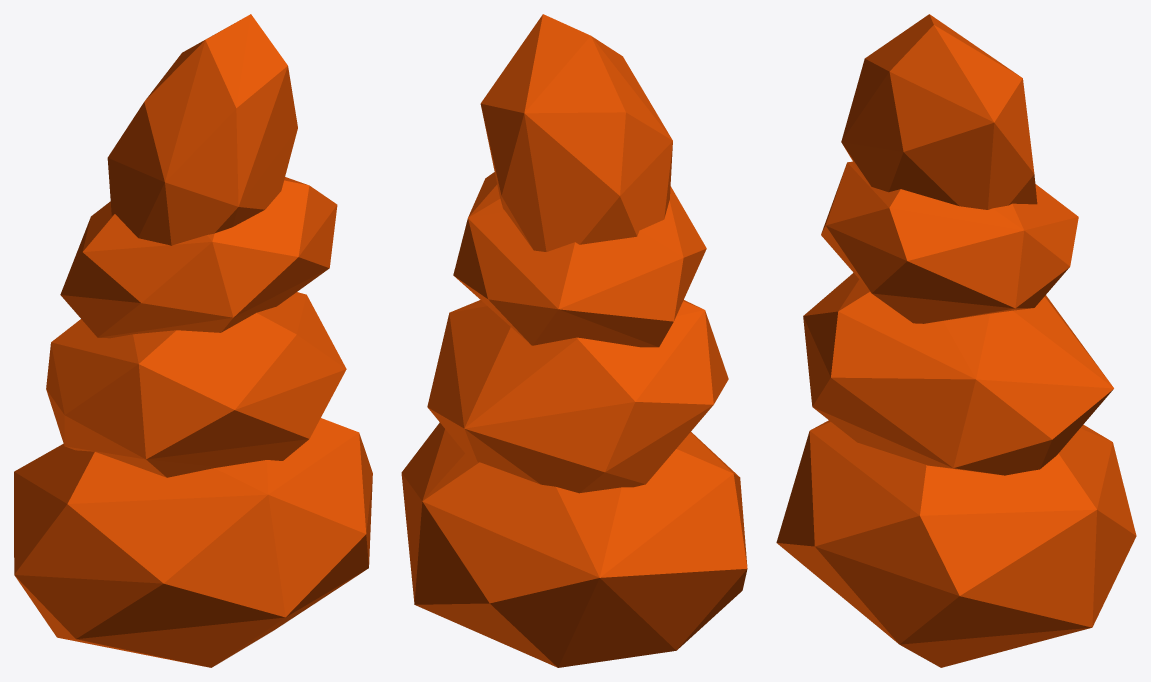
File: tree-autumn-leaves-4-048.glb
The picture shows the model from 3 angles, left to right: view 1: azimuth 30°, elevation 25°; view 2: azimuth 150°, elevation 25°; view 3: azimuth 270°, elevation 25°; orthographic projection. The views are drawn at different scales.
Parts seen in each view (by area): view 1: TREE 4.003_398; view 2: TREE 4.003_398; view 3: TREE 4.003_398.
Boxes of the visible parts, x1,y1,x2,y2 form: TREE 4.003_398: [14, 14, 372, 667]; TREE 4.003_398: [401, 14, 747, 667]; TREE 4.003_398: [776, 14, 1136, 667].
Size of the model in its own units: 0.7503 by 1.25 by 0.646.
